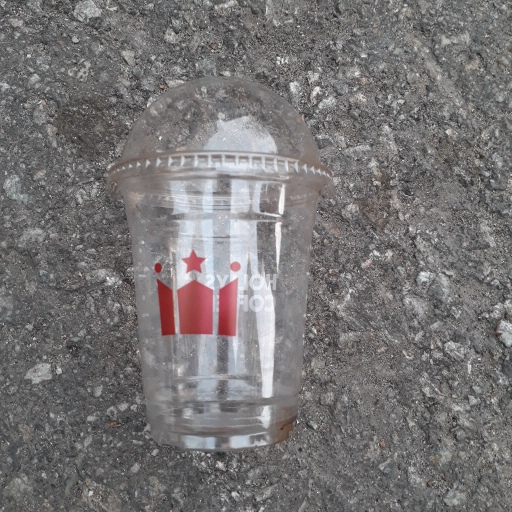Plastic_2: (104, 76, 329, 449)
